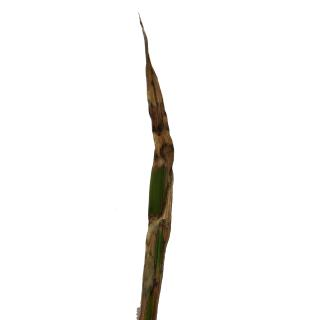Hawar-Daun: (146, 59, 177, 176), (141, 203, 165, 320)
